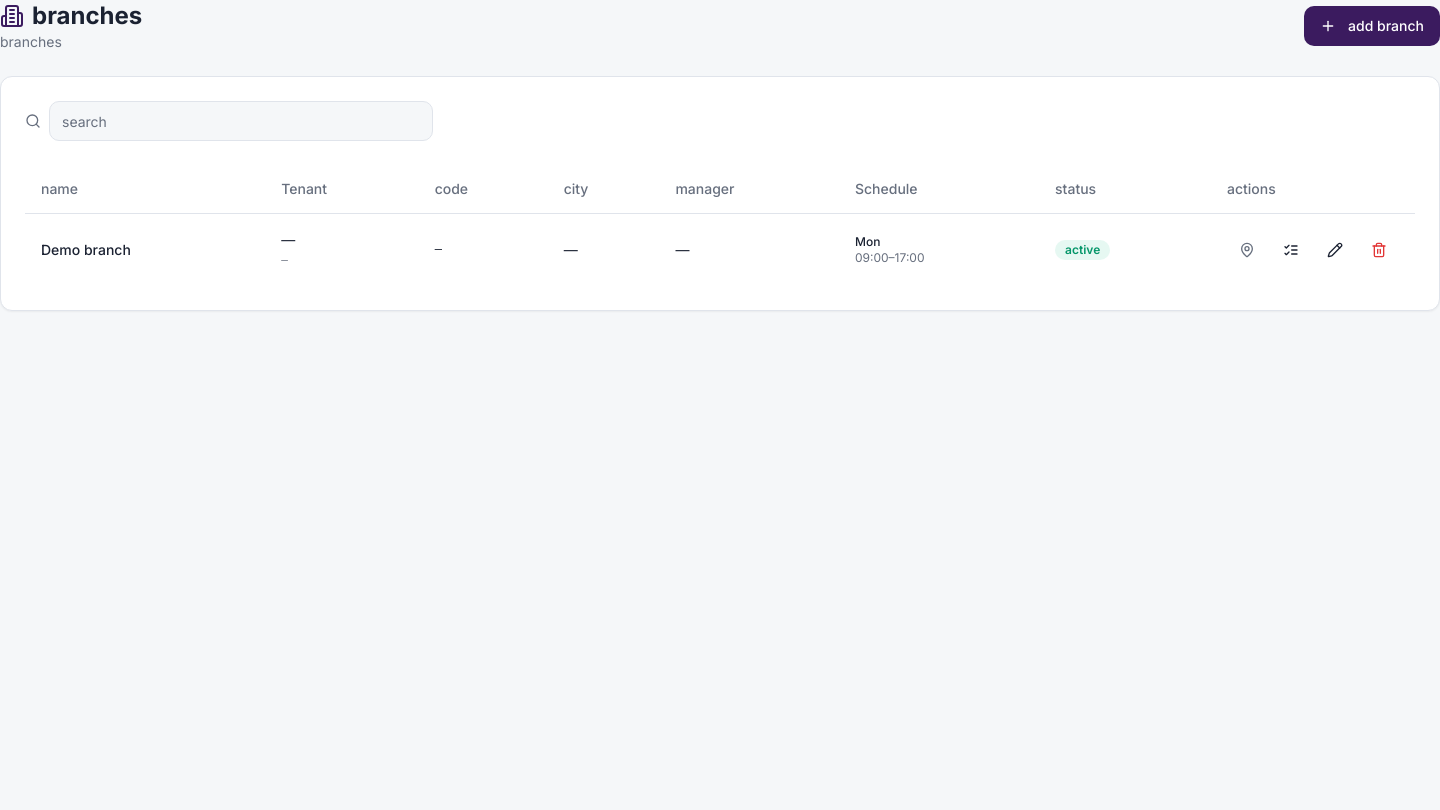
Scenario: blocks double archive submissions and closes only after confirmed success
Later steps or results of the test are not shown.
Click the button named "Delete branch Demo branch".
click(1379, 250)  # box [1359, 230, 1399, 270]
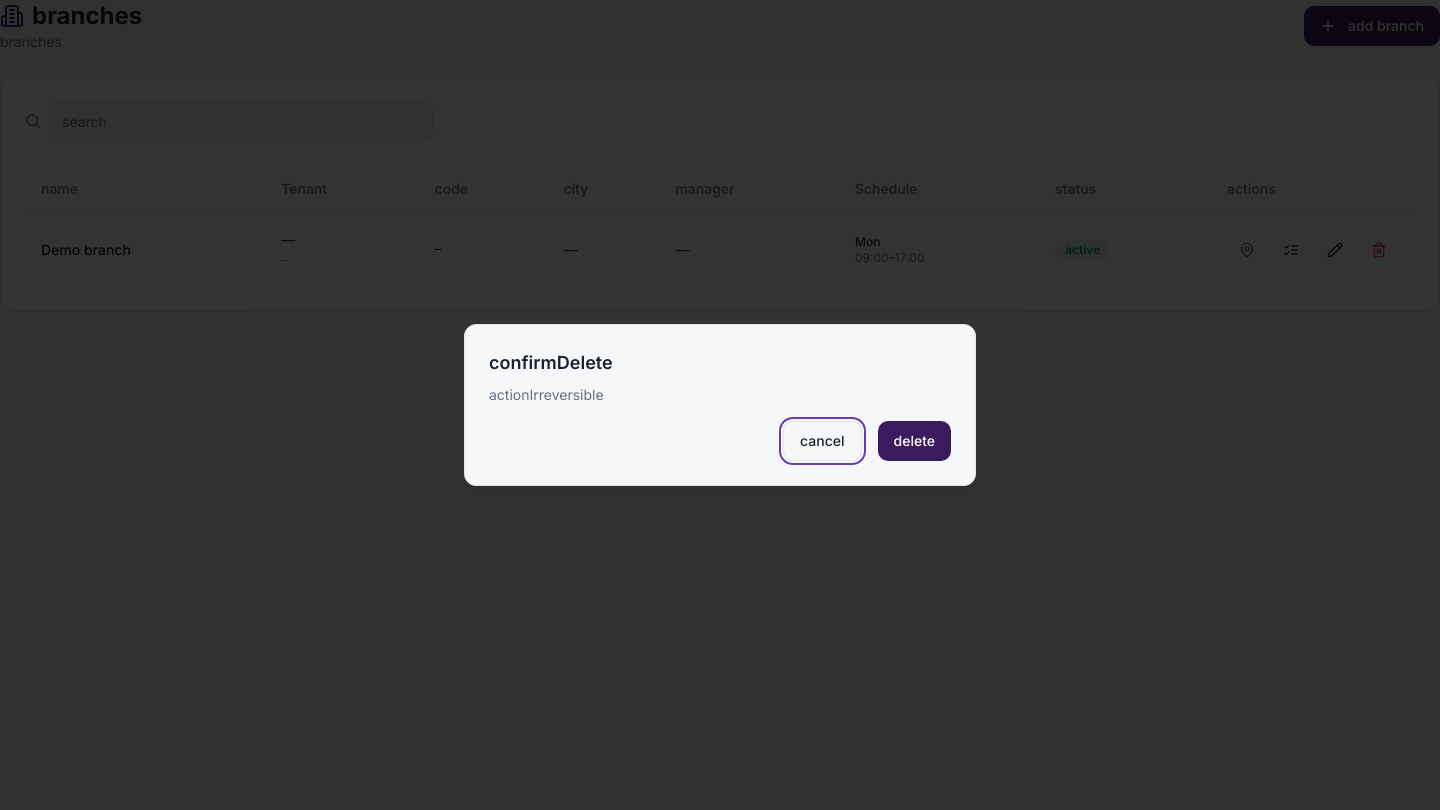
Click the button "delete".
click(914, 441)  # box [878, 421, 951, 461]
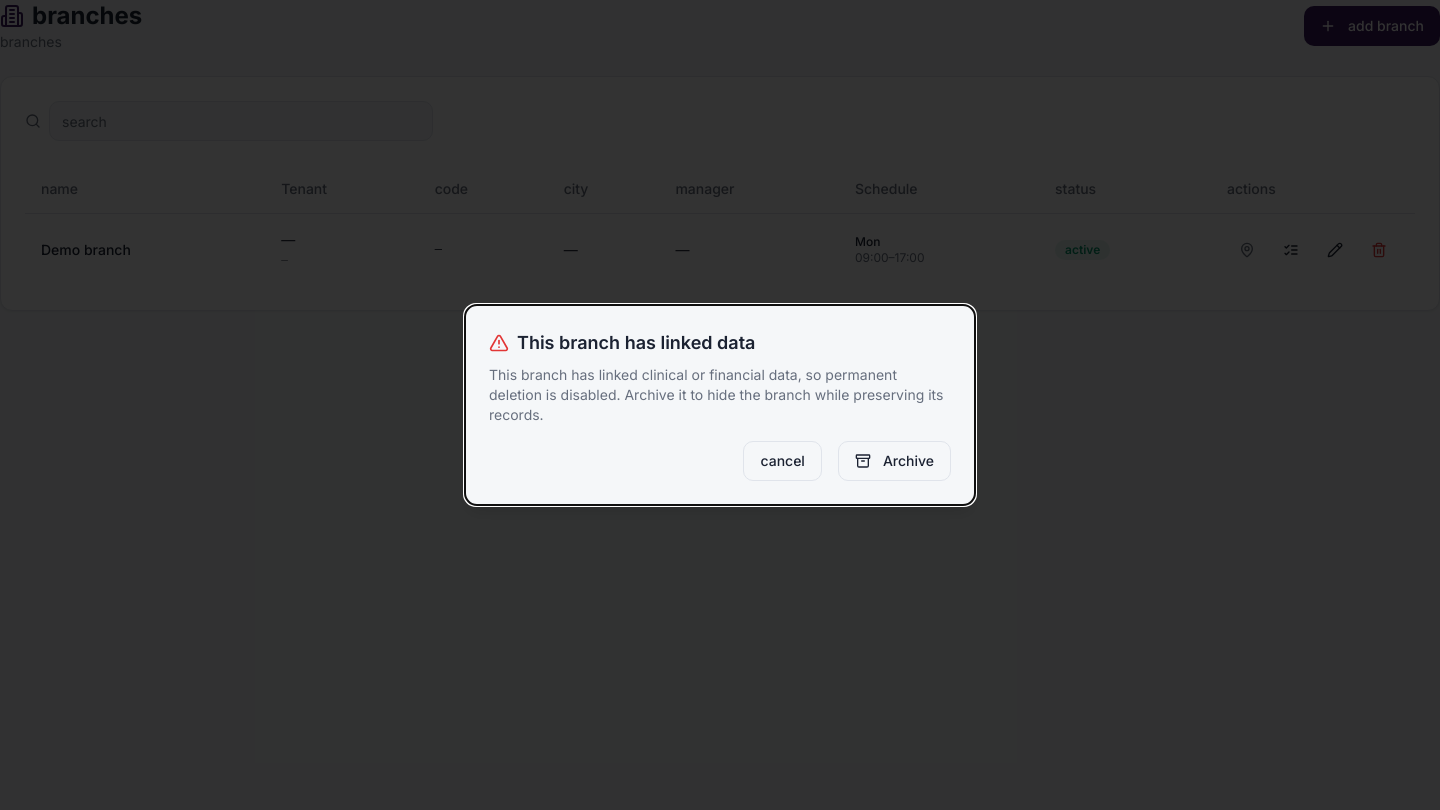
Click the button "Archive".
click(894, 461)  # box [838, 441, 951, 481]
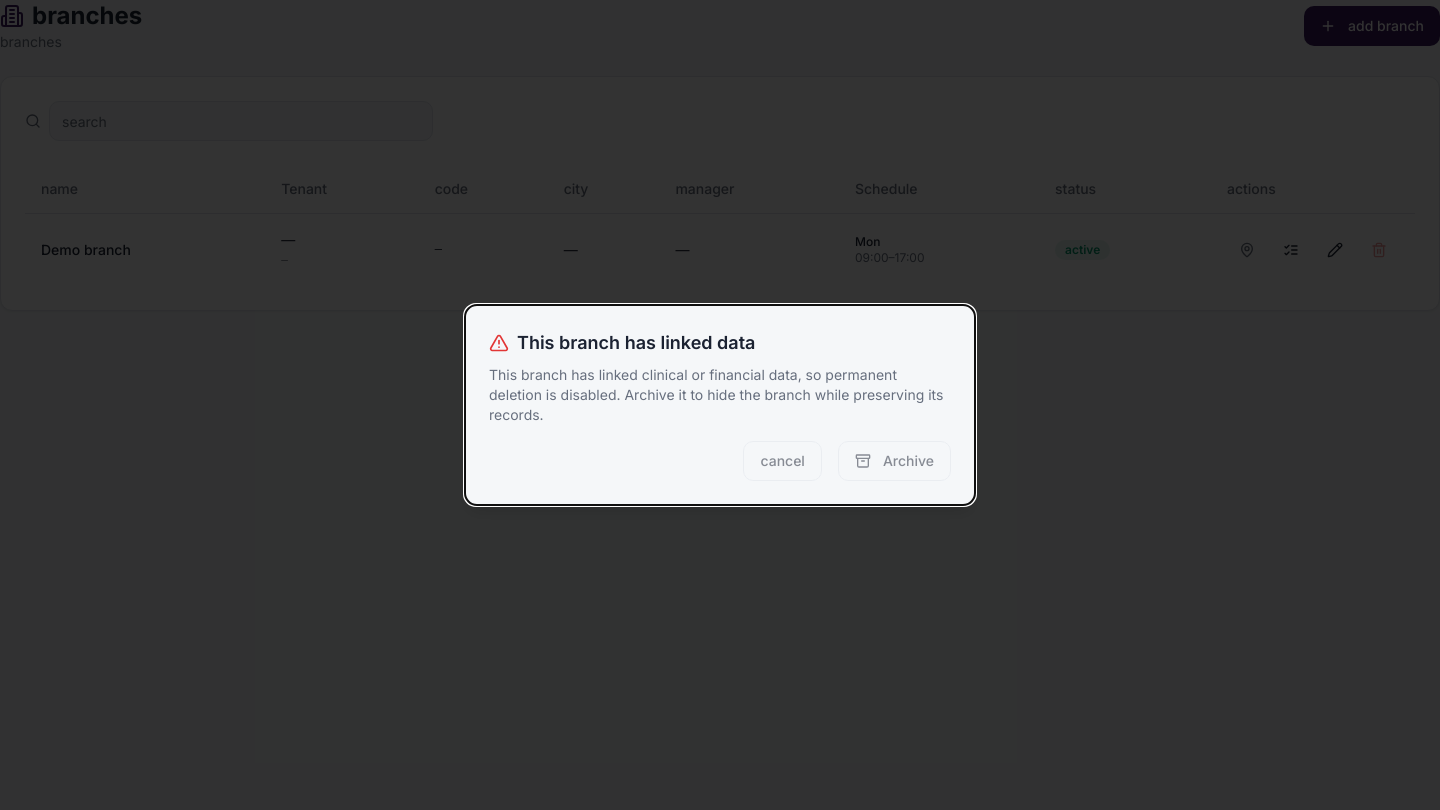
Click the button "Archive".
click(894, 461)  # box [838, 441, 951, 481]
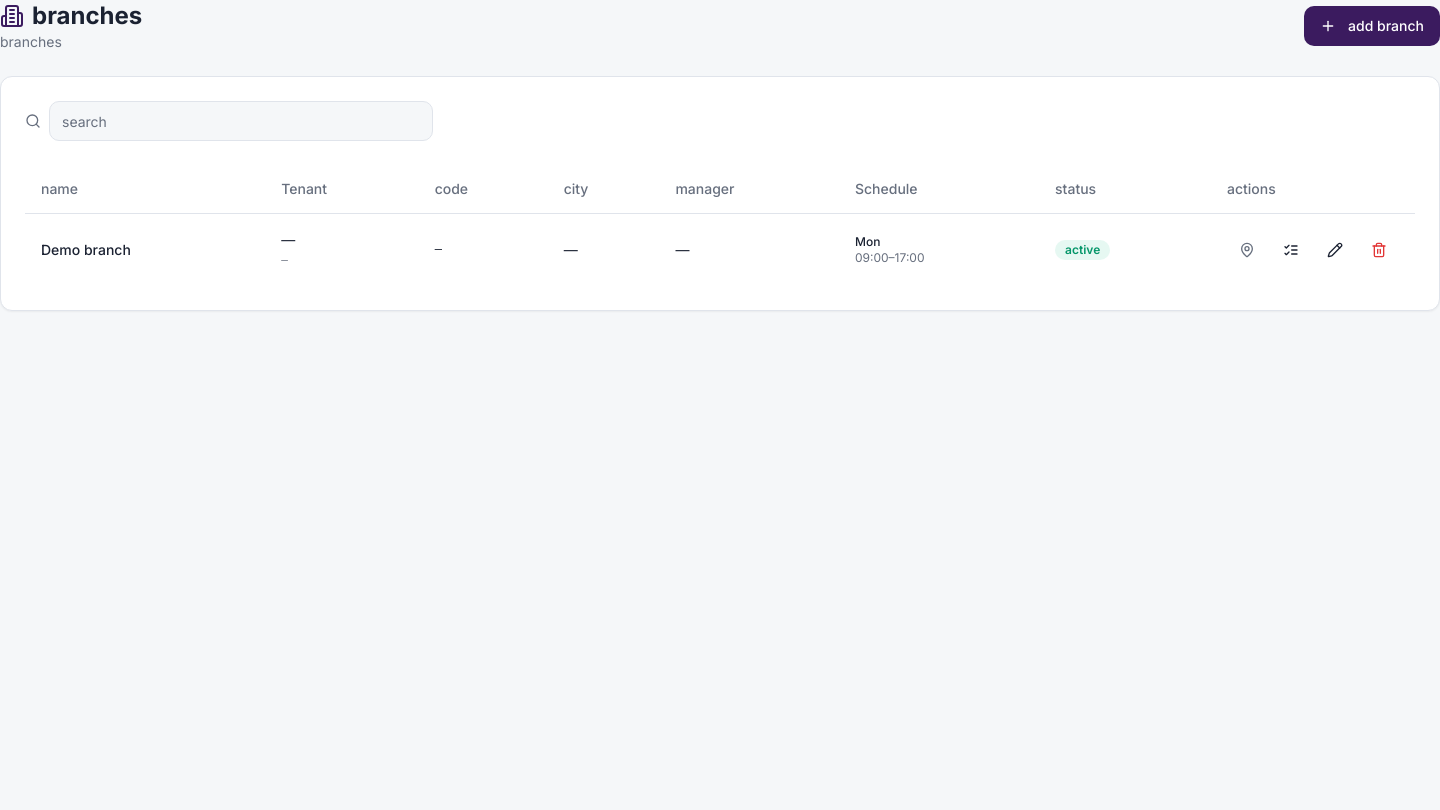
Now the dialog is gone
